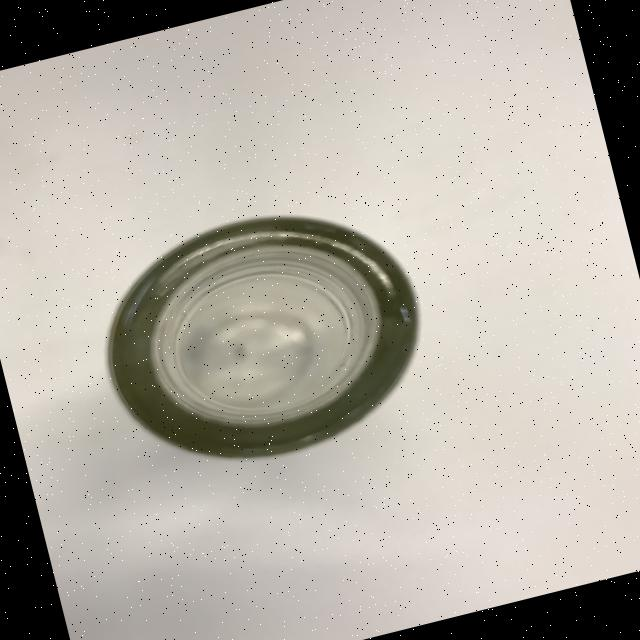glass: (62, 175, 455, 498)
